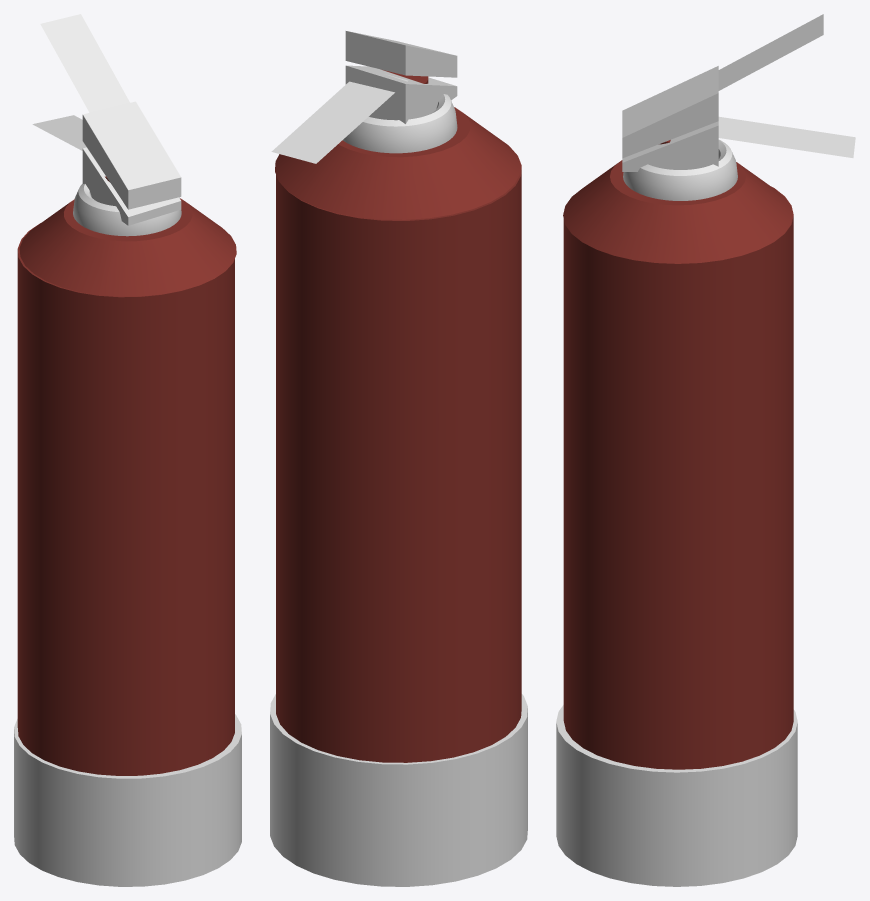
File: fire.glb
3 views of the same model, side by side, from view 1: azimuth 30°, elevation 25°; view 2: azimuth 150°, elevation 25°; view 3: azimuth 270°, elevation 25° (orthographic). The views are drawn at different scales.
Visible parts, largest first — view 1: Cone, Cylinder, Cube, Plane, Torus, Plane.001; view 2: Cone, Cylinder, Cube, Plane.001, Torus; view 3: Cone, Cylinder, Cube, Torus, Plane.001, Plane.
Part boxes in pixels (x1=…): Cone: x1=17, y1=176, x2=236, y2=775; Cylinder: x1=14, y1=714, x2=241, y2=886; Cube: x1=82, y1=101, x2=181, y2=225; Plane: x1=40, y1=14, x2=129, y2=112; Torus: x1=73, y1=184, x2=181, y2=236; Plane.001: x1=32, y1=115, x2=86, y2=150; Cone: x1=275, y1=70, x2=521, y2=762; Cylinder: x1=270, y1=694, x2=527, y2=886; Cube: x1=345, y1=31, x2=457, y2=123; Plane.001: x1=271, y1=74, x2=408, y2=163; Torus: x1=343, y1=94, x2=457, y2=153; Cone: x1=563, y1=140, x2=793, y2=769; Cylinder: x1=556, y1=705, x2=797, y2=886; Cube: x1=622, y1=66, x2=718, y2=171; Torus: x1=623, y1=139, x2=737, y2=200; Plane.001: x1=718, y1=116, x2=855, y2=157; Plane: x1=718, y1=14, x2=823, y2=90.
Size of the model in its own units: 2.1 by 7.8 by 2.6.
